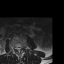CCS_normal: (18, 46, 20, 54)
LFS_severe_stenosis: (22, 45, 23, 50)
LLS_stenosis: (20, 46, 21, 51)
RFS_normal: (14, 46, 16, 51)
RLS_stenosis: (16, 46, 18, 51)
